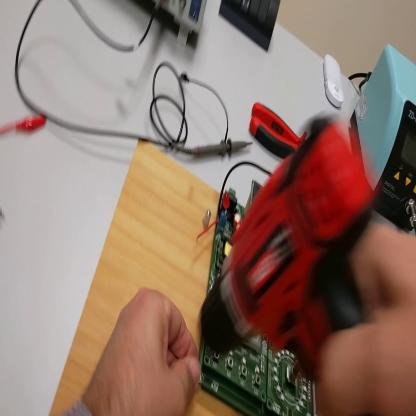electric screwdriver: (195, 115, 381, 416)
hand: (312, 223, 416, 416), (83, 290, 201, 414)
low voltage board: (199, 156, 317, 416)
oscilloscope: (149, 2, 207, 49)
oscilloscope probe tip: (175, 133, 250, 160)
pliers: (252, 99, 310, 161)
welder station: (352, 48, 416, 232)
working area: (47, 130, 244, 416)
